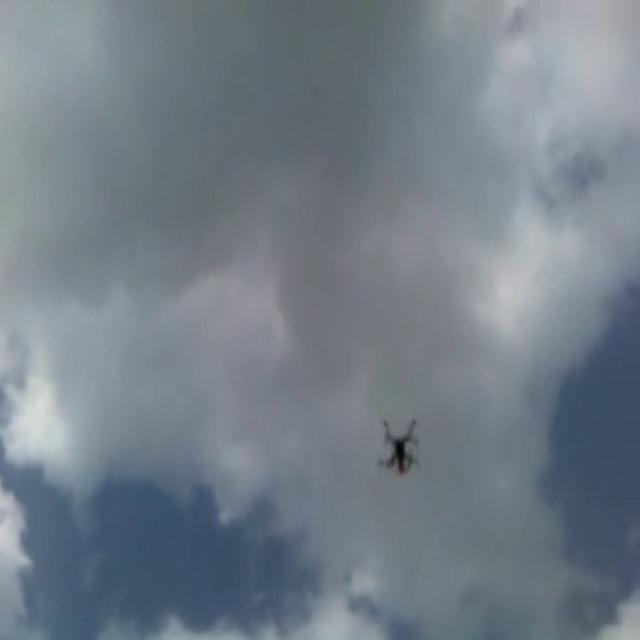drone: (374, 411, 421, 476)
